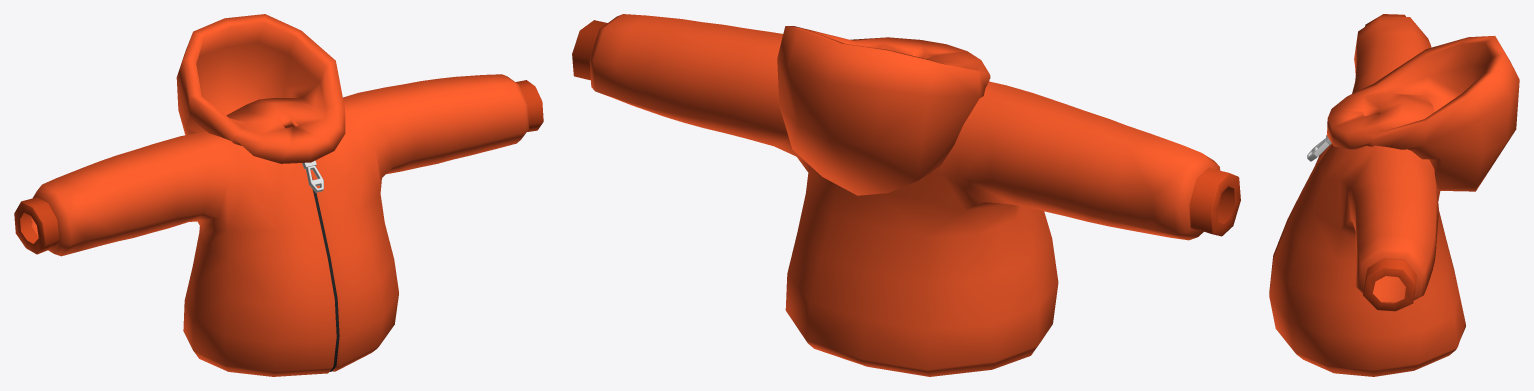
Rendered from Outerwear_Orange_011.glb.
3 views of the same model, side by side, from view 1: azimuth 30°, elevation 25°; view 2: azimuth 150°, elevation 25°; view 3: azimuth 270°, elevation 25° (orthographic). The views are drawn at different scales.
Parts seen in each view (by area): view 1: Outerwear_Orange_011; view 2: Outerwear_Orange_011; view 3: Outerwear_Orange_011.
Boxes of the visible parts, x1=… form: Outerwear_Orange_011: x1=14, y1=14, x2=543, y2=376; Outerwear_Orange_011: x1=572, y1=14, x2=1240, y2=376; Outerwear_Orange_011: x1=1269, y1=14, x2=1519, y2=376.
Size of the model in its own units: 1.29 by 0.6763 by 0.5383.
1 material, 1 textured.
